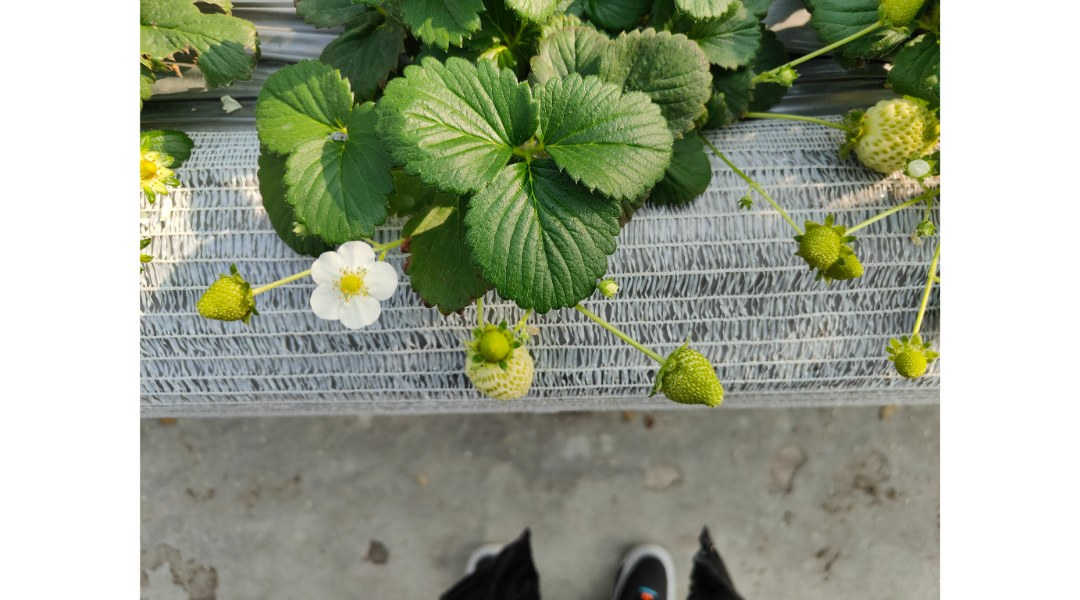berry: (451, 321, 547, 410), (856, 92, 943, 183), (656, 342, 740, 405), (785, 200, 845, 281), (187, 266, 256, 325), (813, 232, 868, 302), (464, 319, 514, 372), (885, 328, 934, 382), (870, 0, 922, 35)
flower: (310, 233, 407, 335)
strain: (703, 144, 805, 234), (772, 20, 880, 76), (572, 311, 665, 364), (906, 242, 944, 344), (739, 104, 846, 135), (241, 267, 306, 305), (847, 206, 910, 235)
